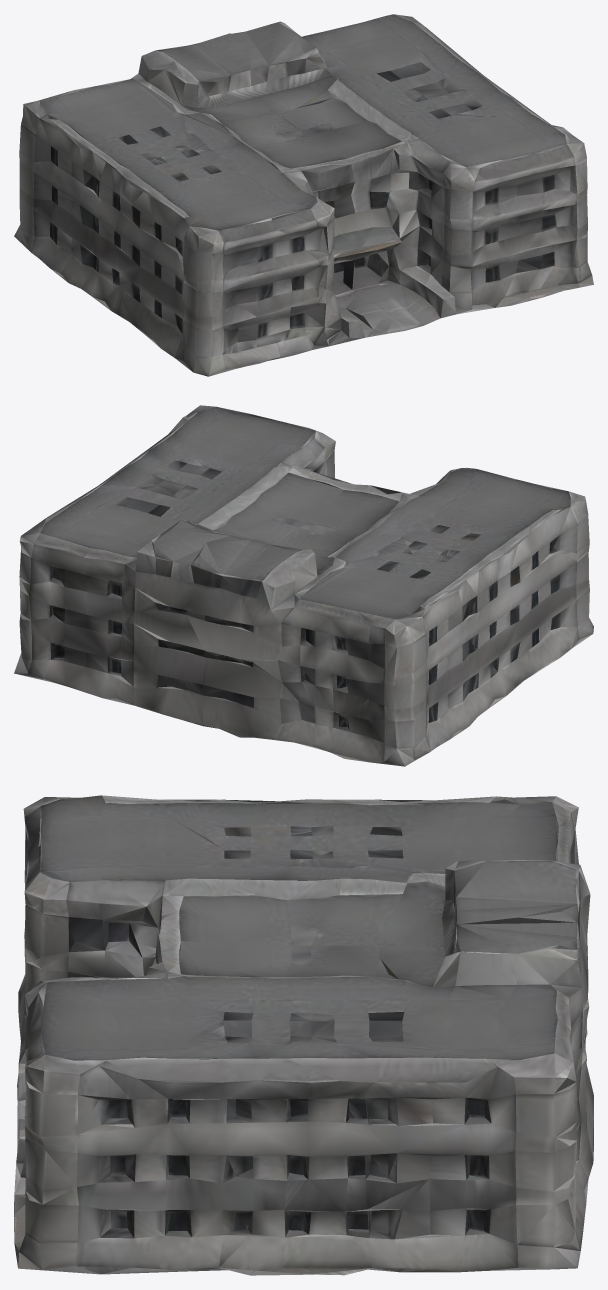
File: imperial_barracks_lod2.glb
The picture shows the model from 3 angles, top to bottom: view 1: azimuth 30°, elevation 25°; view 2: azimuth 150°, elevation 25°; view 3: azimuth 270°, elevation 25°; orthographic projection. The views are drawn at different scales.
Parts seen in each view (by area): view 1: mesh_node; view 2: mesh_node; view 3: mesh_node.
Part boxes in pixels (x1,y1,x2,y2): mesh_node: [14, 14, 593, 376]; mesh_node: [14, 405, 593, 766]; mesh_node: [14, 795, 593, 1275].
Size of the model in its own units: 28.59 by 11.13 by 24.62.
Materials: 1 (1 with a texture image).
